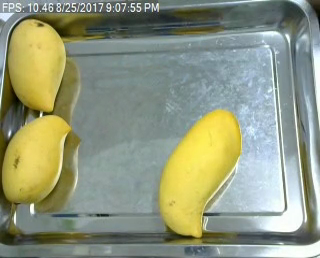Mango: (157, 109, 243, 240), (0, 113, 74, 205), (3, 13, 68, 113)
